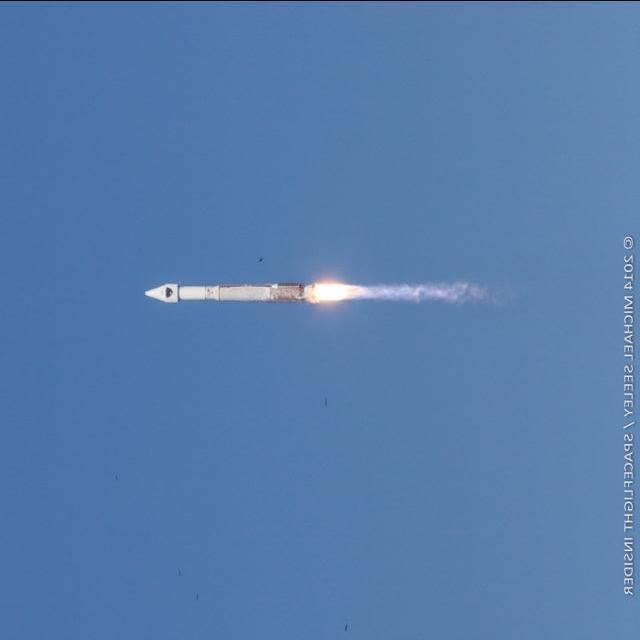missile: (138, 273, 322, 317)
